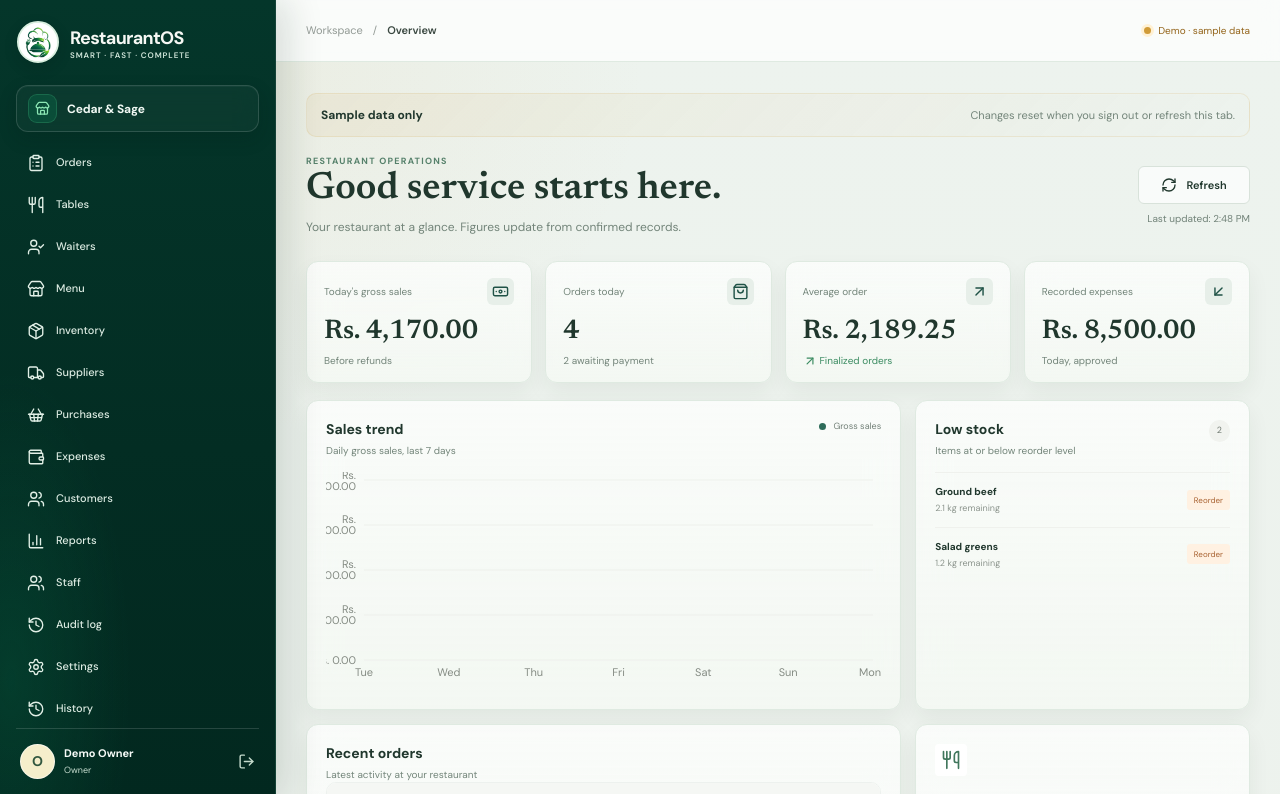
Test: authentication routes › opens order and payment history from the sidebar
This screenshot has width=1280, height=794.
(page scrolled)
Click the button "History" at coordinates (138, 709), box [16,689,259,728]
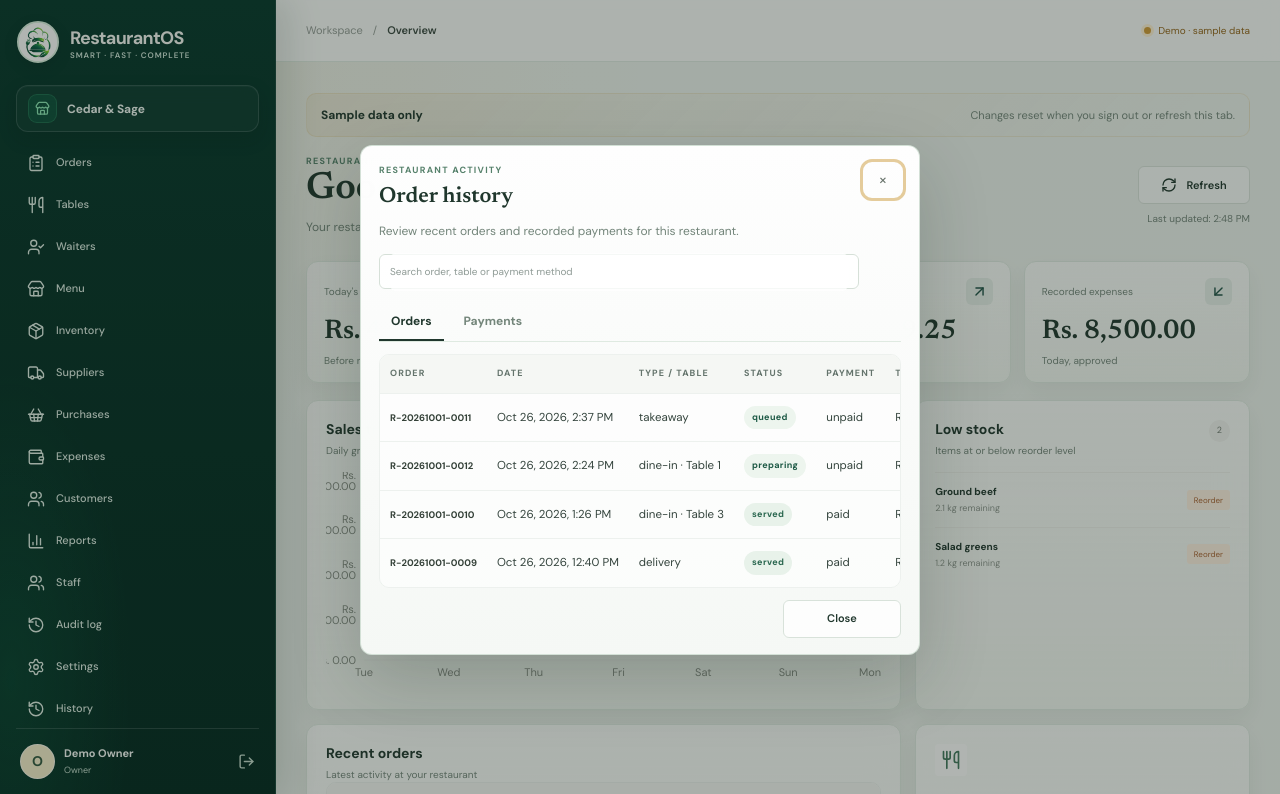
Expected: the text "R-20261001-0012" is shown, [390,460,473,472]
Click the tab "Payments" at coordinates (493, 322), box [452,303,534,341]
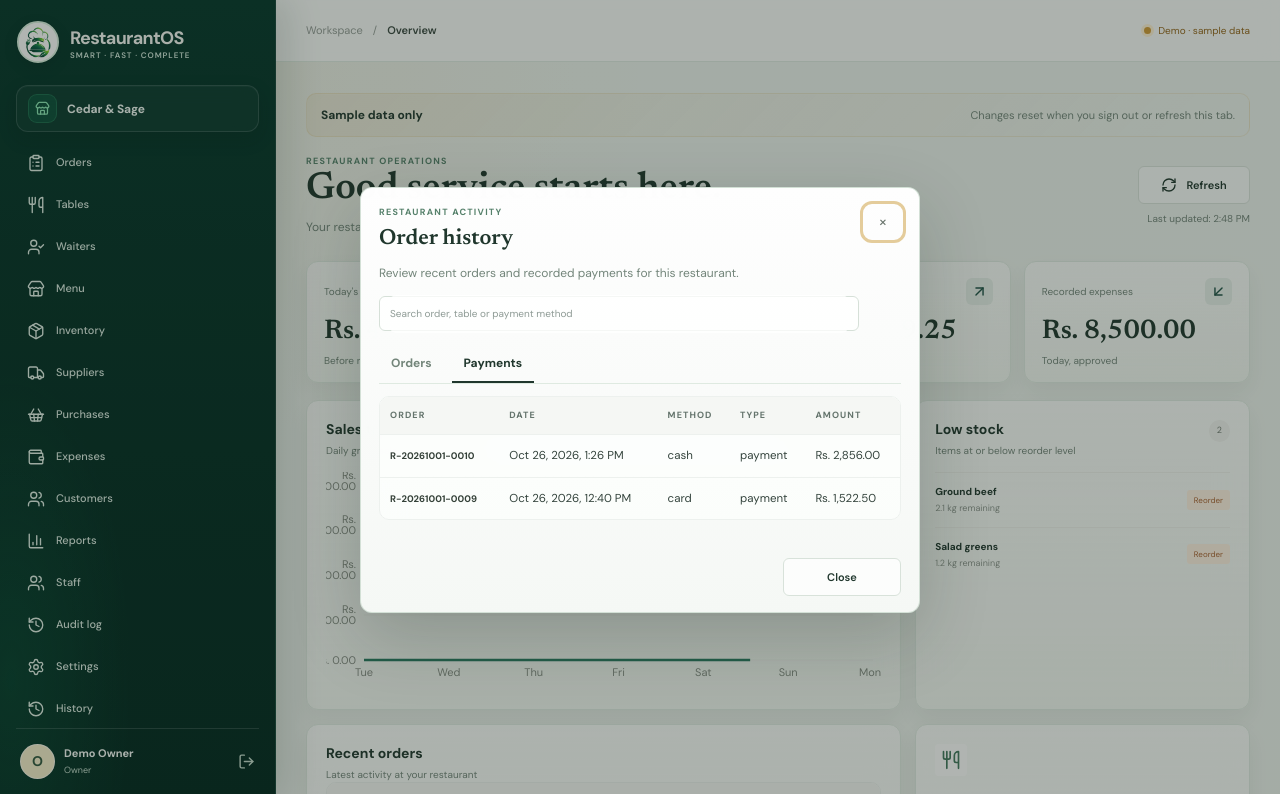
Expected: the text "cash" is shown, [658,435,730,477]
